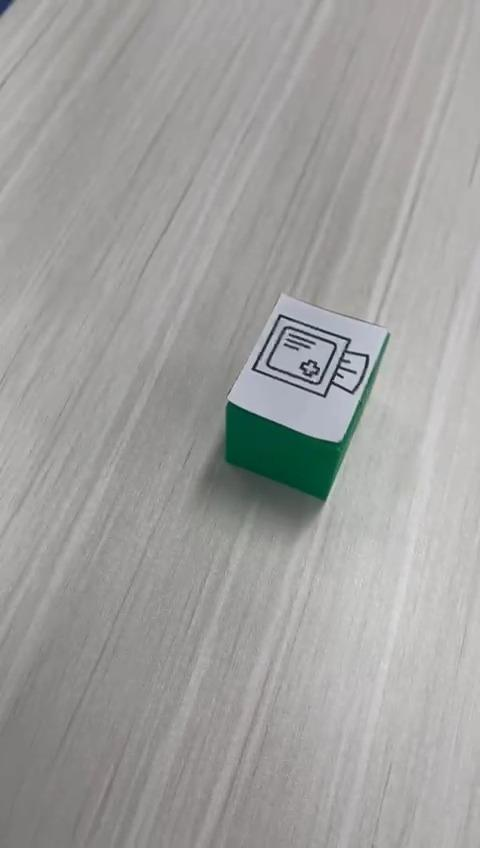Gauze: (223, 291, 390, 502)
